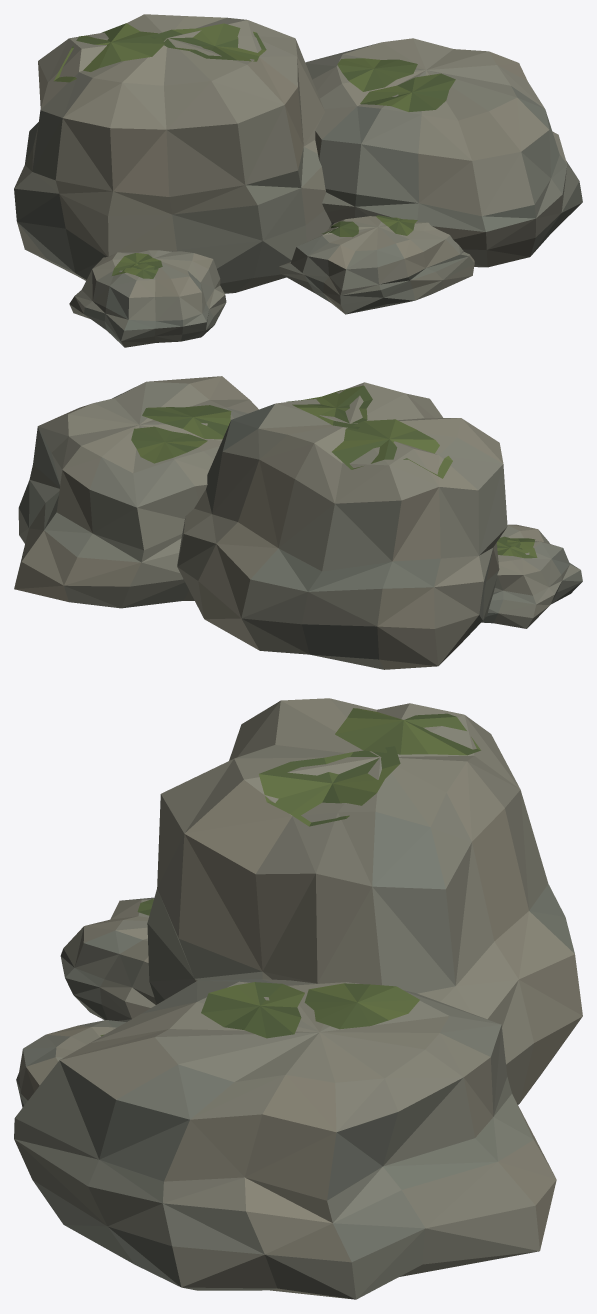
The model's file is valley-shore-outcrop.glb.
3 views of the same model, one above another, from view 1: azimuth 30°, elevation 25°; view 2: azimuth 150°, elevation 25°; view 3: azimuth 270°, elevation 25° (orthographic). The views are drawn at different scales.
Parts seen in each view (by area): view 1: bank-mineral-and-protected-moss; view 2: bank-mineral-and-protected-moss; view 3: bank-mineral-and-protected-moss.
Boxes of the visible parts, x1,y1,x2,y2 form: bank-mineral-and-protected-moss: (14, 14, 582, 347); bank-mineral-and-protected-moss: (14, 376, 582, 669); bank-mineral-and-protected-moss: (14, 698, 582, 1299).
Bounding box in the file's own units: 2.2 × 0.9 × 1.5.
